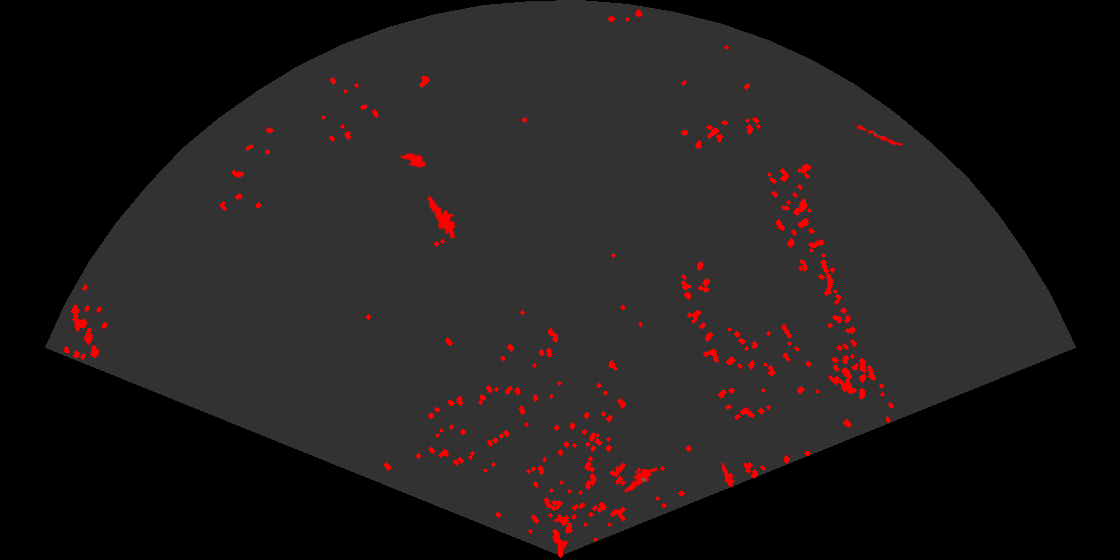AUV: (398, 151, 428, 169)
chain: (852, 121, 904, 148)
frogman: (425, 191, 457, 238), (618, 466, 657, 495), (720, 462, 736, 487)
